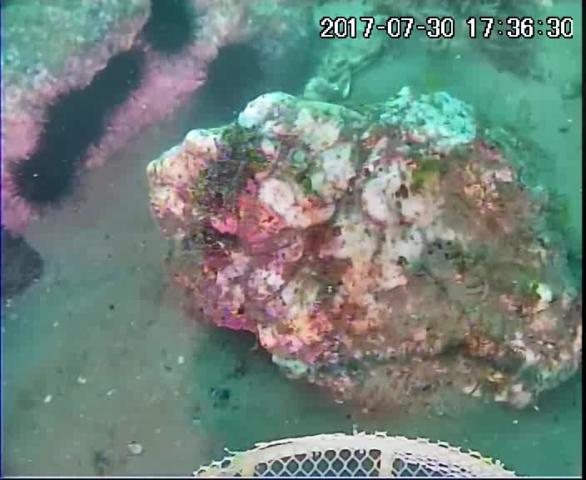echinus: (43, 88, 108, 161), (12, 146, 76, 215), (207, 40, 266, 99), (93, 46, 145, 107), (142, 1, 197, 55)
